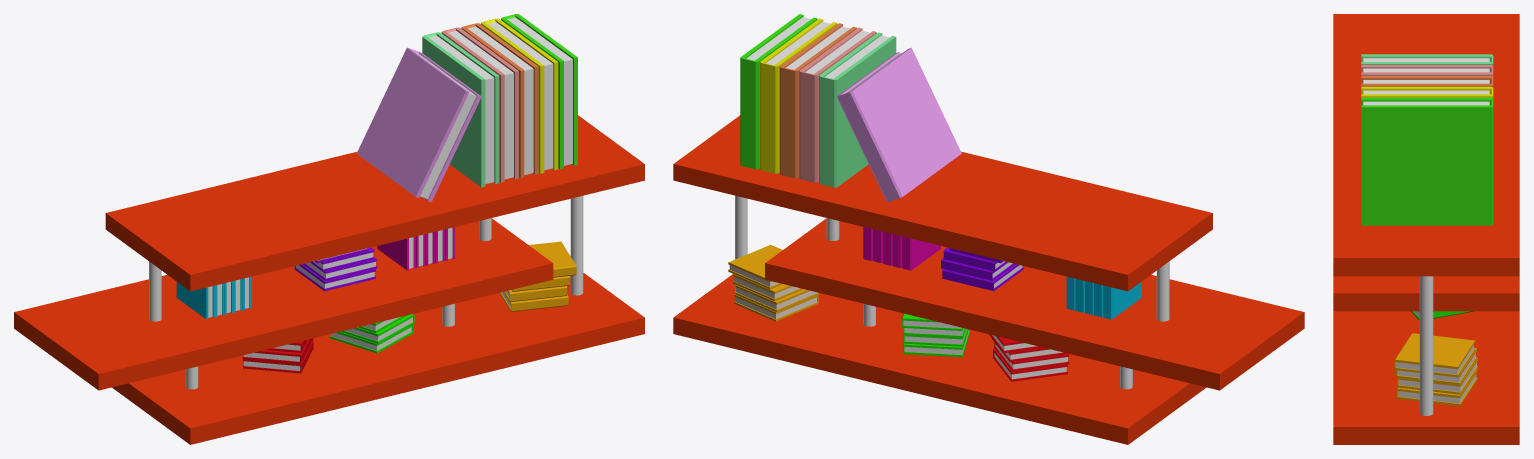
File: Library.fbx
3 renders of one model, left to right at view 1: azimuth 30°, elevation 25°; view 2: azimuth 150°, elevation 25°; view 3: azimuth 270°, elevation 25°, orthographic. The views are drawn at different scales.
Visible parts, largest first — view 1: Cube.033; view 2: Cube.033; view 3: Cube.033.
Boxes of the visible parts, <box> form: Cube.033: <box>14,14,644,444</box>; Cube.033: <box>673,14,1304,444</box>; Cube.033: <box>1333,14,1519,444</box>.
Size of the model in its own units: 29.8 by 14.67 by 8.
